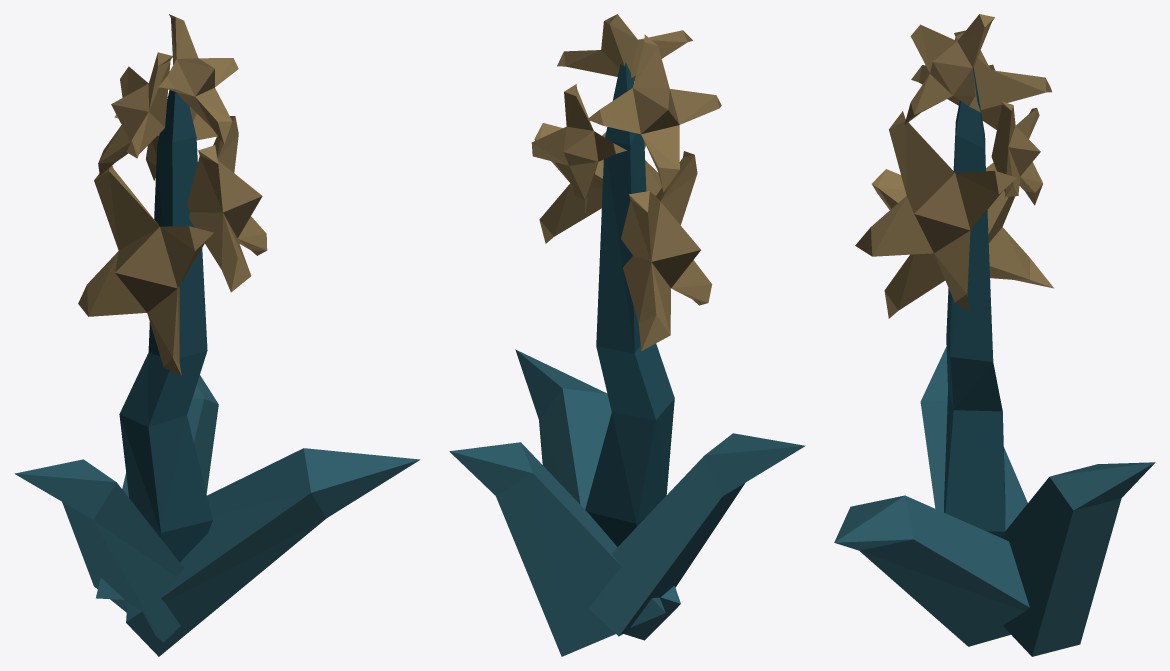
The model's file is SM_Env_Plant_01.fbx.
3 views of the same model, side by side, from view 1: azimuth 30°, elevation 25°; view 2: azimuth 150°, elevation 25°; view 3: azimuth 270°, elevation 25° (orthographic). The views are drawn at different scales.
Visible parts, largest first — view 1: SM_Env_Plant_01; view 2: SM_Env_Plant_01; view 3: SM_Env_Plant_01.
Boxes of the visible parts, <box> form: SM_Env_Plant_01: <box>14,14,420,656</box>; SM_Env_Plant_01: <box>449,14,805,656</box>; SM_Env_Plant_01: <box>834,14,1155,656</box>.
Size of the model in its own units: 0.00524 by 0.00902 by 0.00409.
1 material, 1 textured.
